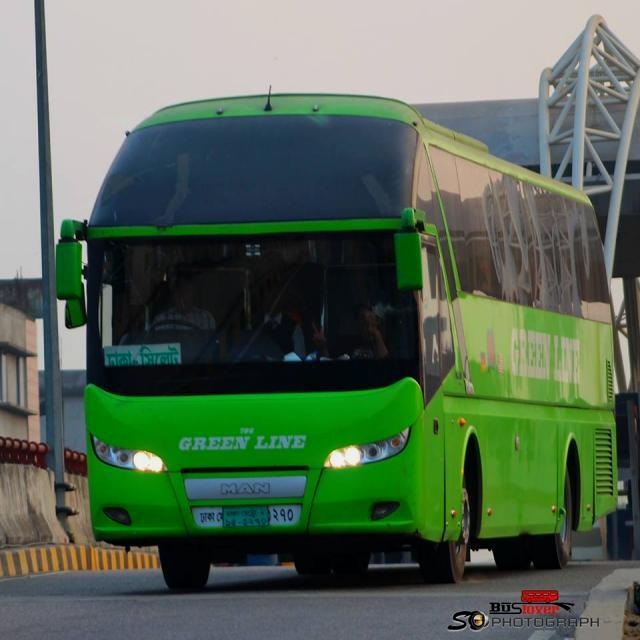bus: (56, 93, 620, 590)
